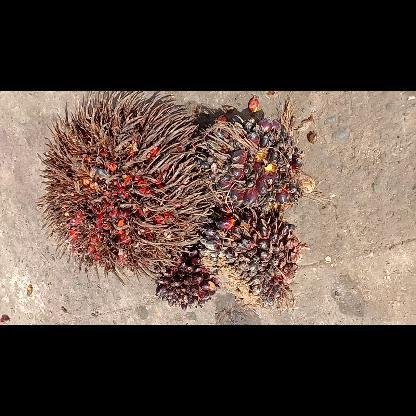TBS abnormal: (193, 112, 318, 216), (196, 205, 304, 315), (152, 246, 218, 312)
Terlalu masak: (34, 92, 218, 286)
